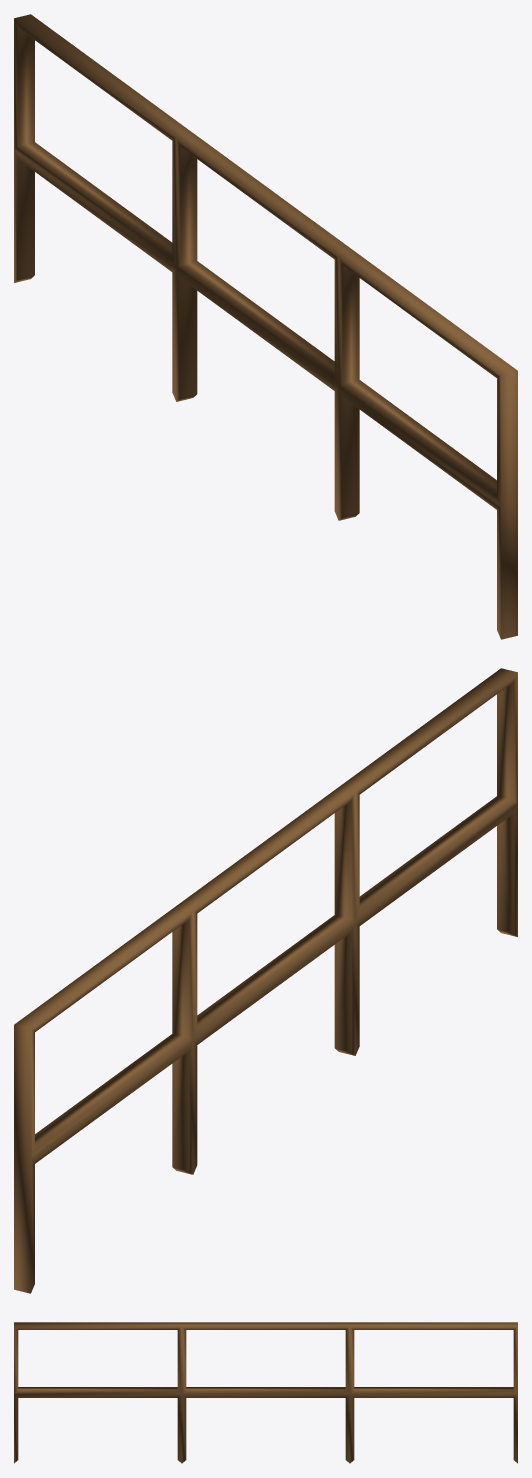
The model's file is Fence.glb.
3 views of the same model, one above another, from view 1: azimuth 30°, elevation 25°; view 2: azimuth 150°, elevation 25°; view 3: azimuth 270°, elevation 25° (orthographic). The views are drawn at different scales.
Parts seen in each view (by area): view 1: Fence; view 2: Fence; view 3: Fence.
Boxes of the visible parts, x1=… form: Fence: x1=14, y1=14, x2=517, y2=639; Fence: x1=14, y1=668, x2=517, y2=1293; Fence: x1=14, y1=1322, x2=517, y2=1463.
Bounding box in the file's own units: 0.1 × 1.5 × 5.
1 material, 1 textured.
